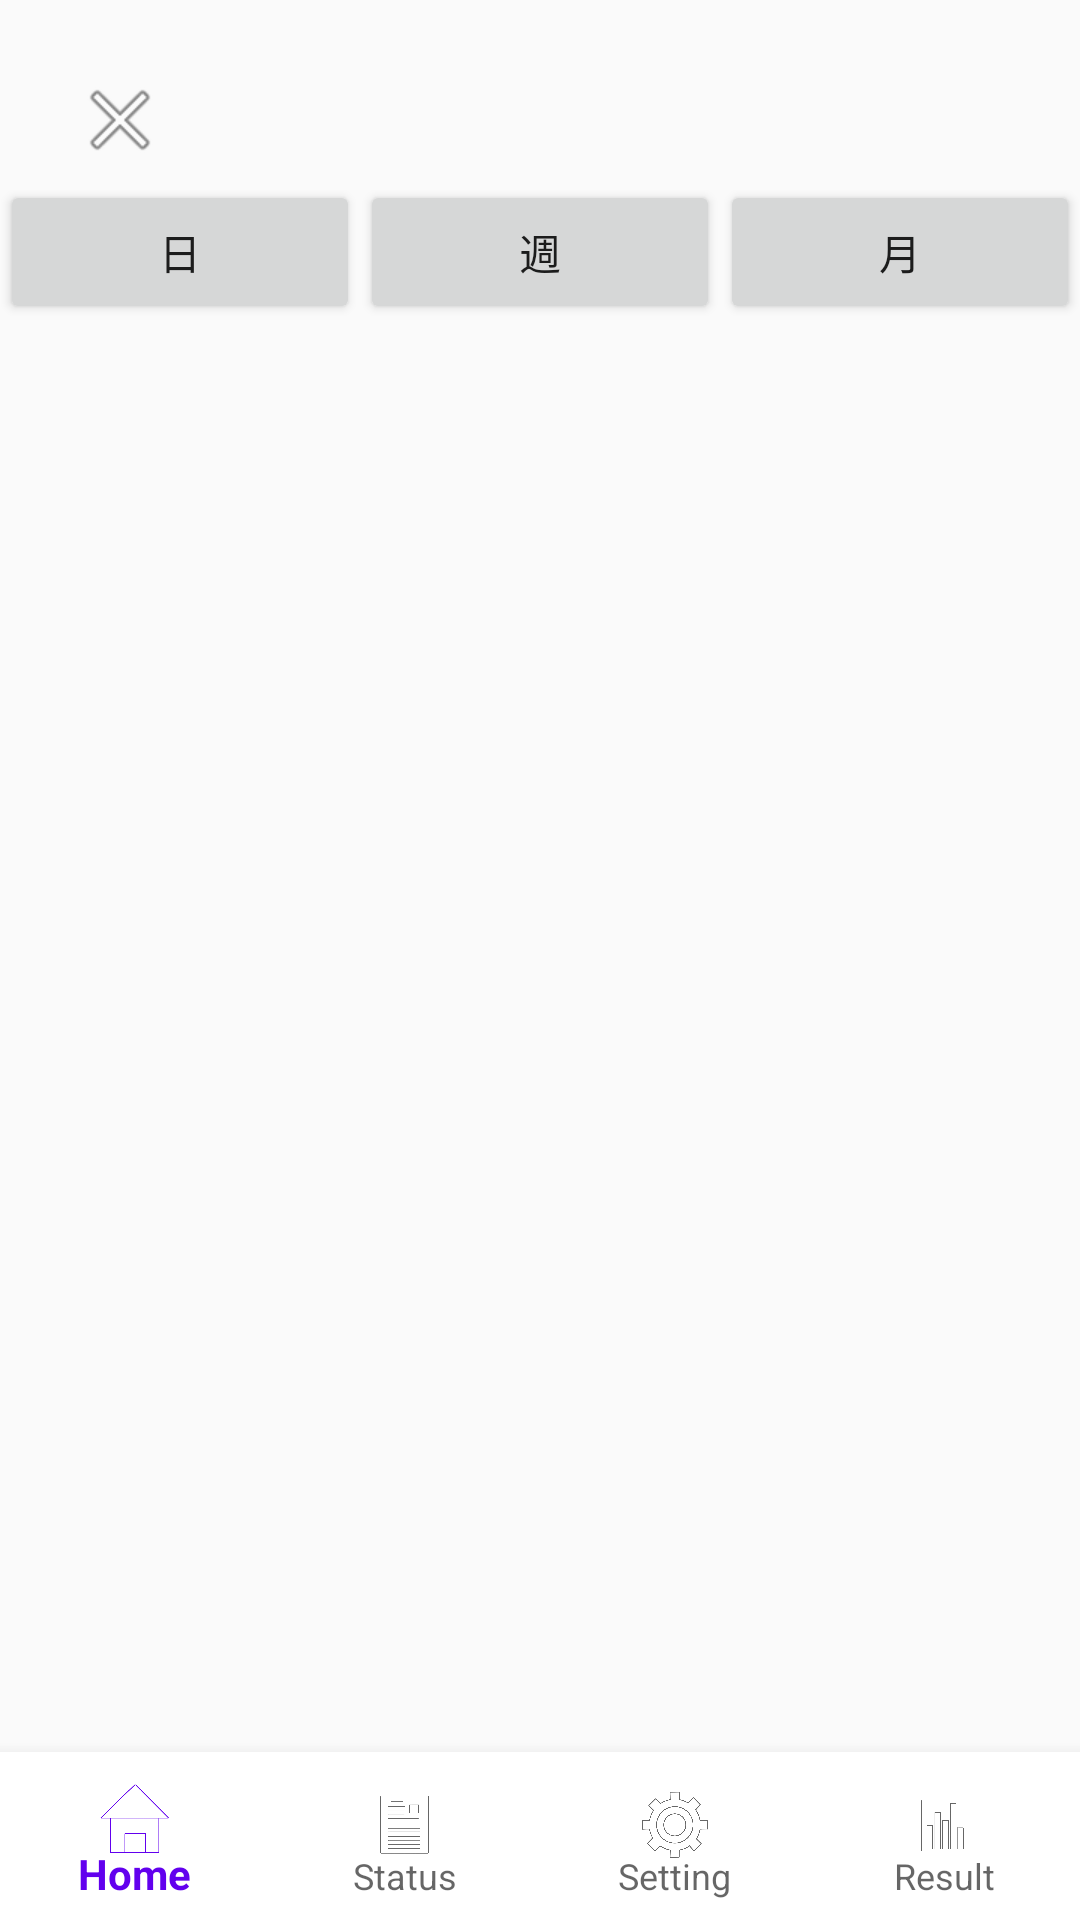

Icon bounding boxes for this 1080w x 1920h phone screenshot, format (x1, y1, x2, y2):
閉じる: (90, 90, 150, 150)
